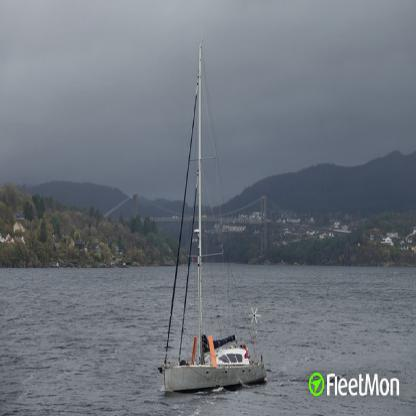Sails Boat: (157, 25, 268, 394)
